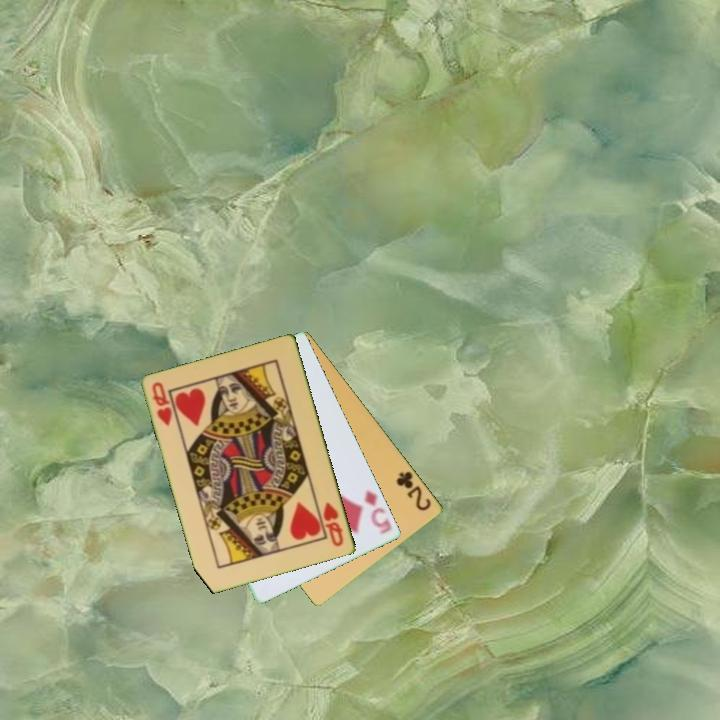2c: (393, 467, 434, 514)
5d: (361, 487, 395, 537)
Qh: (320, 499, 347, 550), (149, 378, 175, 429)
